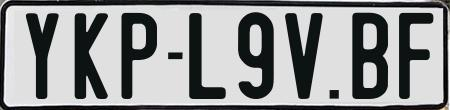9: (235, 9, 271, 99)
B: (349, 12, 390, 98)
F: (396, 11, 434, 99)
K: (75, 11, 113, 99)
L: (188, 10, 226, 101)
P: (118, 10, 158, 96)
V: (282, 12, 322, 98)
Y: (26, 13, 61, 99)
